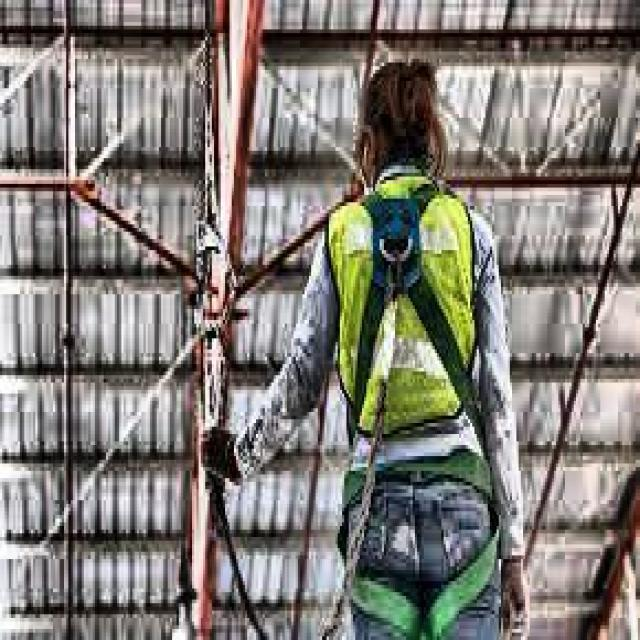belt: (342, 169, 503, 636)
